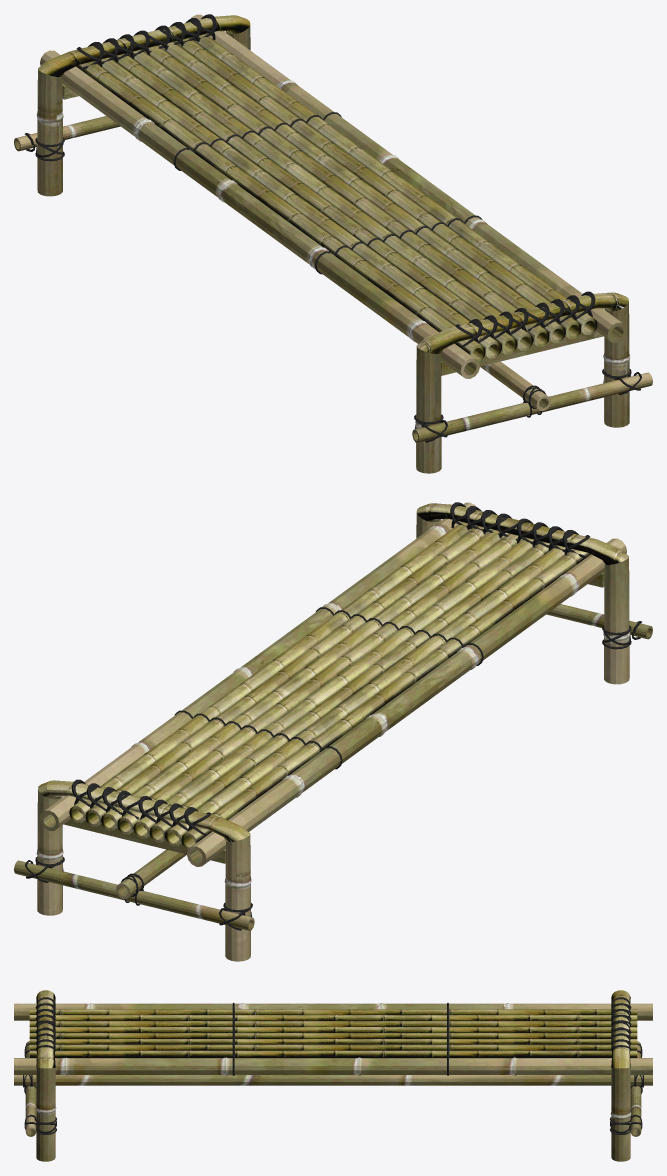
Rendered from pp_endai2.glb.
3 views of the same model, one above another, from view 1: azimuth 30°, elevation 25°; view 2: azimuth 150°, elevation 25°; view 3: azimuth 270°, elevation 25° (orthographic). The views are drawn at different scales.
Parts seen in each view (by area): view 1: pp_endai2-0; view 2: pp_endai2-0; view 3: pp_endai2-0.
Part boxes in pixels (x1,y1,x2,y2): pp_endai2-0: (14,14,652,473); pp_endai2-0: (14,502,652,961); pp_endai2-0: (14,990,652,1161).
Size of the model in its own units: 0.9 by 0.5 by 2.81.
Materials: 1 (1 with a texture image).
